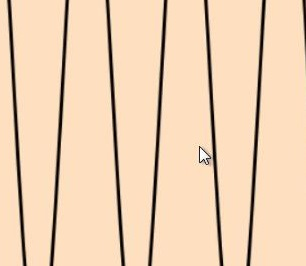cursor: (197, 144, 211, 166)
